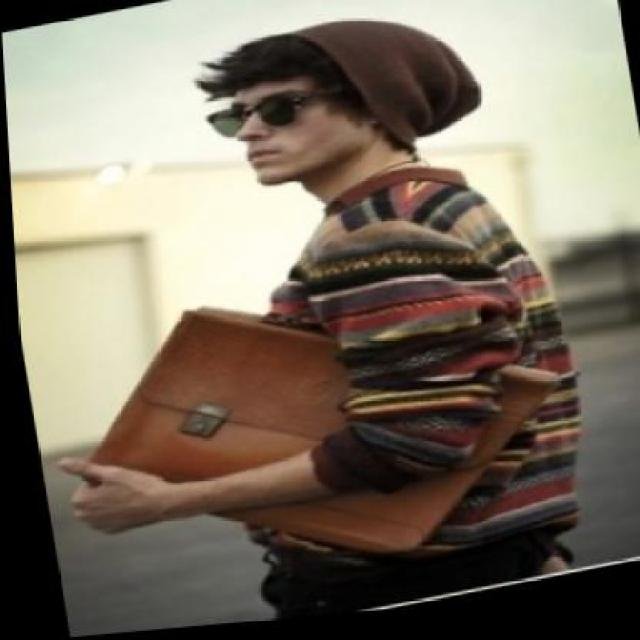hat: (264, 0, 491, 180)
